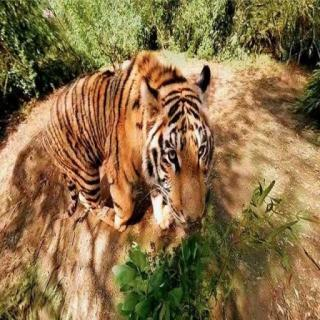Tiger: (28, 41, 264, 242)
